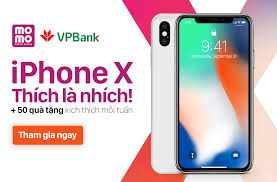iphone: (151, 12, 255, 174)
iphone10: (150, 11, 254, 173)
